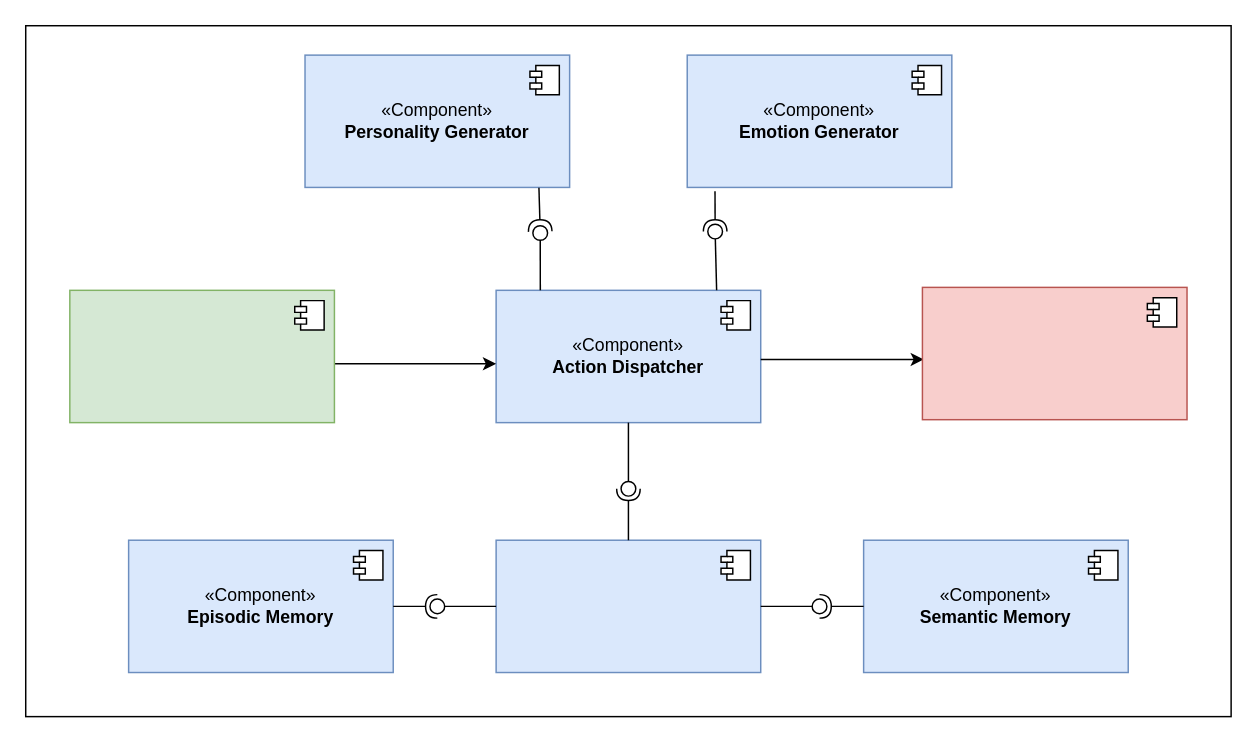
Image size: 1257x742. Some labels were removed from this diagram. Here are the shapes that lost their labels. From the top down, the box of each, then its label:
(68, 289, 334, 423): «Component» Perception Components
(921, 286, 1187, 420): «Component» Execution Components
(495, 539, 761, 673): «Component» Prospection
